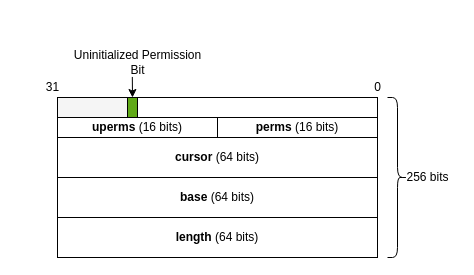
Some shapes in this 474 by 275 pixel diagram are drawn without their labels. Here are the shapes that lost their labels. From the top down, the centre of each, then its label:
At (92,107): "padding".
At (257,107): "otype (24 bits)".
